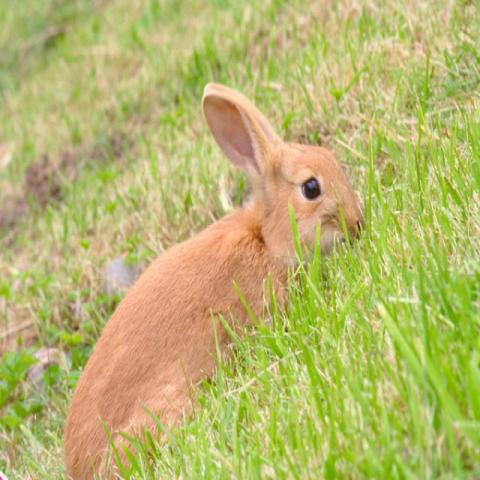small_animal: (60, 80, 368, 480)
